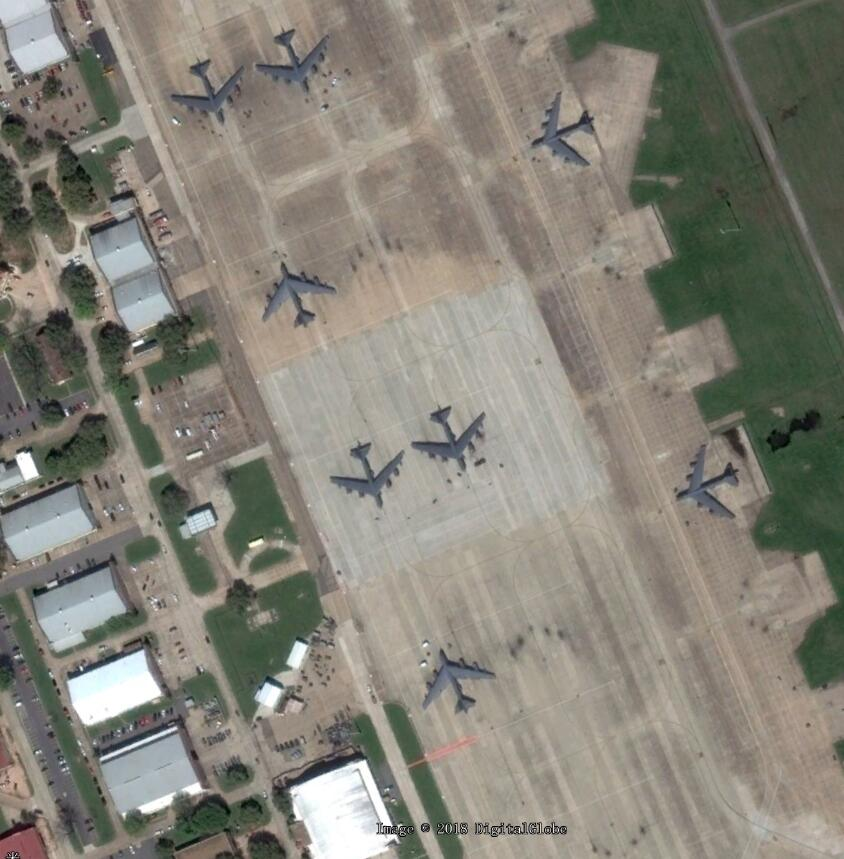A8: (326, 440, 409, 512), (412, 404, 492, 476), (673, 442, 744, 523), (254, 28, 334, 99), (169, 58, 249, 128), (257, 263, 341, 329), (530, 90, 597, 172), (420, 650, 498, 718)
